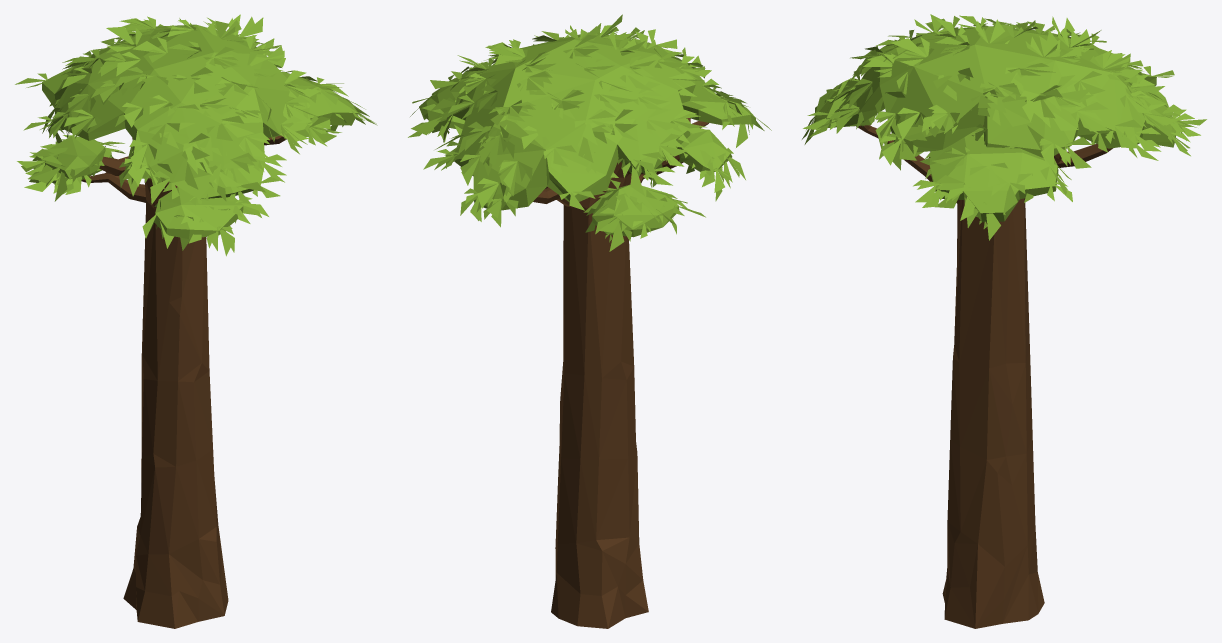
The model's file is SM_Tree_Baobab_Mature_A.fbx.
The picture shows the model from 3 angles, left to right: view 1: azimuth 30°, elevation 25°; view 2: azimuth 150°, elevation 25°; view 3: azimuth 270°, elevation 25°; orthographic projection. The views are drawn at different scales.
Visible parts, largest first — view 1: tree-baobab-mature-a; view 2: tree-baobab-mature-a; view 3: tree-baobab-mature-a.
Boxes of the visible parts, x1,y1,x2,y2 form: tree-baobab-mature-a: [15, 14, 377, 628]; tree-baobab-mature-a: [408, 14, 771, 628]; tree-baobab-mature-a: [802, 14, 1206, 628].
Size of the model in its own units: 6.97 by 11.27 by 7.05.
